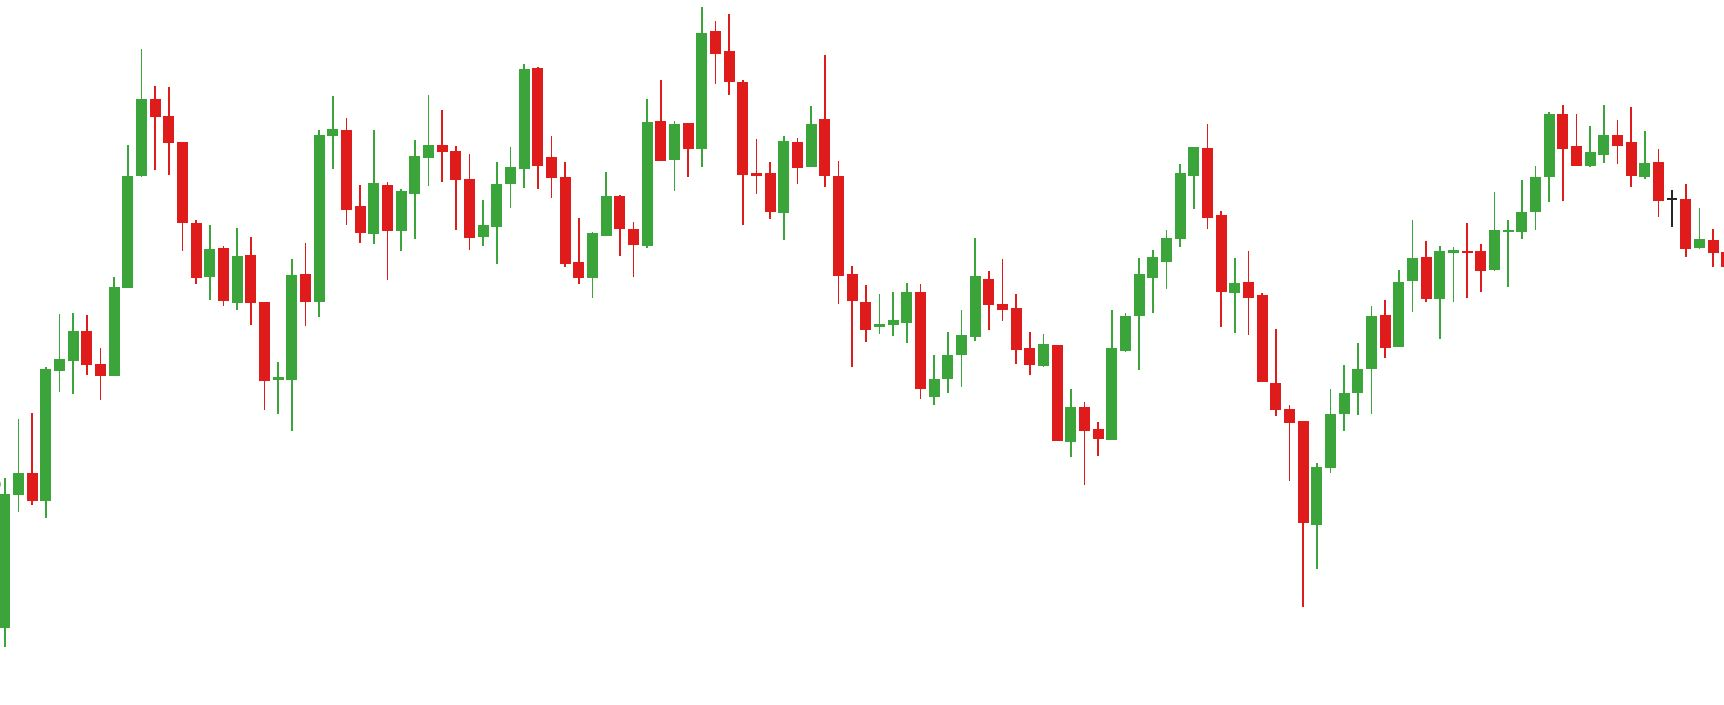buy: (1075, 279, 1323, 617)
sell: (423, 66, 545, 203)
